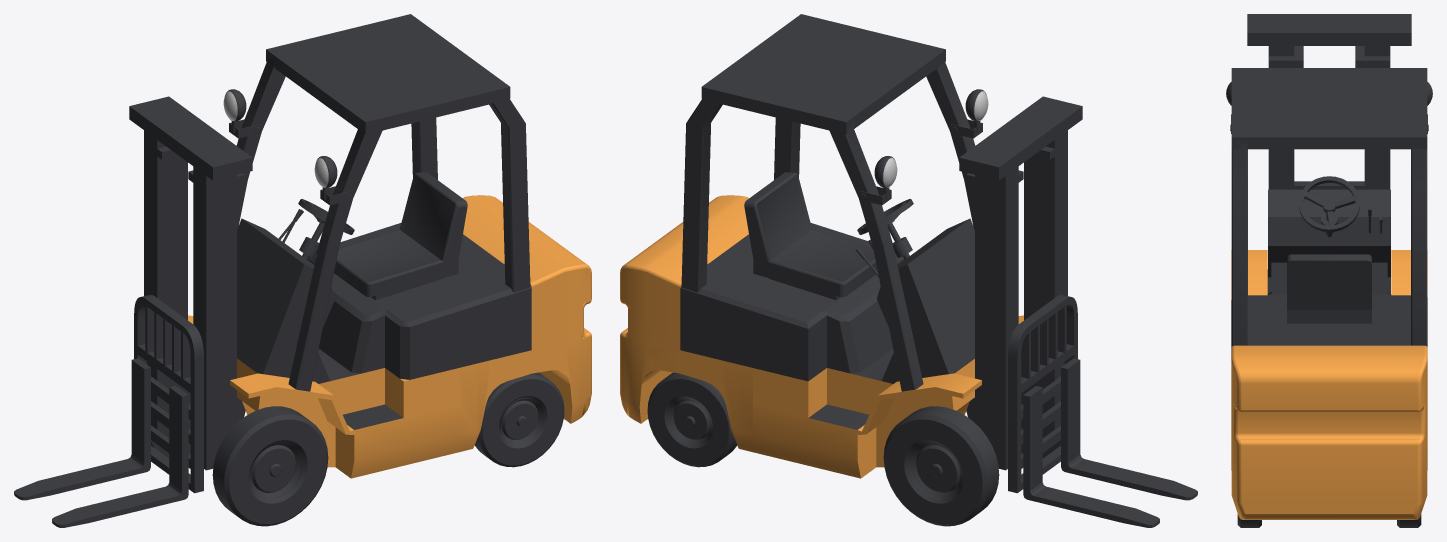
The model's file is Forklift.obj.
3 views of the same model, side by side, from view 1: azimuth 30°, elevation 25°; view 2: azimuth 150°, elevation 25°; view 3: azimuth 270°, elevation 25° (orthographic).
Parts seen in each view (by area): view 1: Roof, Cube_3_2, Cube_3, Cube_12_2_2, Panel, Tube, Cube_13_2, Cube_4, Cube_12, Tube_2, Cube_6, Sweep (+3 smaller); view 2: Roof, Cube_3_2, Cube_3, Cube_12_2_2, Panel, Tube, Cube_13_2, Cube_4, Cube_12, Tube_2, Cube_6, Sweep (+3 smaller); view 3: Cube_3_2, Roof, Panel, Cube_3, Cube_12, Cube_6, Cube_12_2_2, Tube_3, Cube_4, Cube_13_3, Sweep, Tube_2.
Boxes of the visible parts, x1,y1,x2,y2 form: Roof: (236, 14, 530, 391); Cube_3_2: (188, 195, 591, 478); Cube_3: (307, 223, 531, 379); Cube_12_2_2: (144, 130, 236, 470); Panel: (237, 218, 334, 383); Tube: (151, 397, 328, 526); Cube_13_2: (14, 358, 188, 527); Cube_4: (334, 229, 458, 297); Cube_12: (129, 96, 252, 180); Tube_2: (474, 372, 564, 467); Cube_6: (399, 172, 467, 262); Sweep: (134, 294, 203, 493); Roof: (681, 14, 975, 391); Cube_3_2: (620, 195, 1023, 478); Cube_3: (680, 223, 904, 381); Cube_12_2_2: (975, 130, 1067, 470); Panel: (877, 218, 974, 383); Tube: (883, 397, 1060, 526); Cube_13_2: (1023, 358, 1197, 527); Cube_4: (753, 229, 877, 297); Cube_12: (959, 96, 1082, 180); Tube_2: (647, 372, 737, 467); Cube_6: (744, 172, 812, 269); Sweep: (1008, 294, 1077, 493); Cube_3_2: (1231, 250, 1427, 519); Roof: (1231, 68, 1427, 346); Panel: (1268, 189, 1390, 293); Cube_3: (1231, 290, 1427, 346); Cube_12: (1247, 14, 1411, 45); Cube_6: (1287, 254, 1371, 309); Cube_12_2_2: (1268, 46, 1390, 189); Tube_3: (1299, 176, 1359, 231); Cube_4: (1287, 309, 1371, 323); Cube_13_3: (1269, 46, 1389, 67); Sweep: (1294, 181, 1364, 189); Tube_2: (1237, 514, 1421, 527).
Size of the model in its own units: 7.05 by 5.09 by 2.52.
